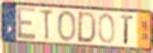D: (76, 11, 97, 45)
E: (16, 6, 37, 41)
O: (57, 9, 77, 43), (97, 12, 116, 45)
T: (39, 9, 55, 42), (120, 14, 135, 46)
